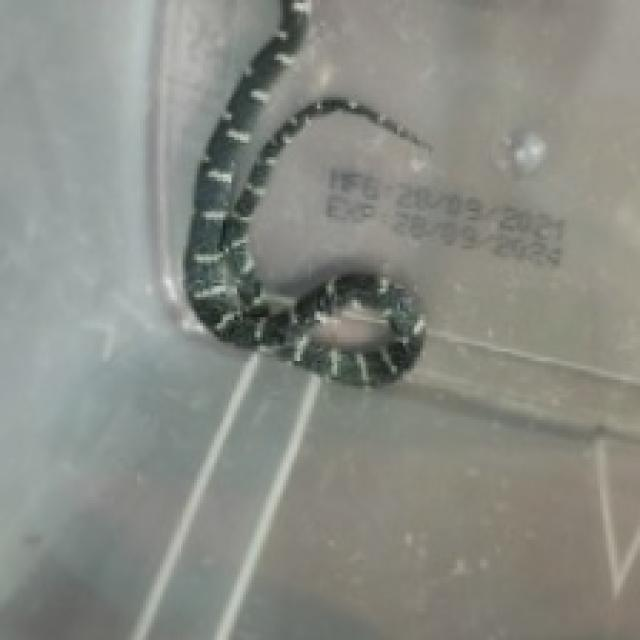gunthers philippine shrub snake: (186, 0, 429, 383)
